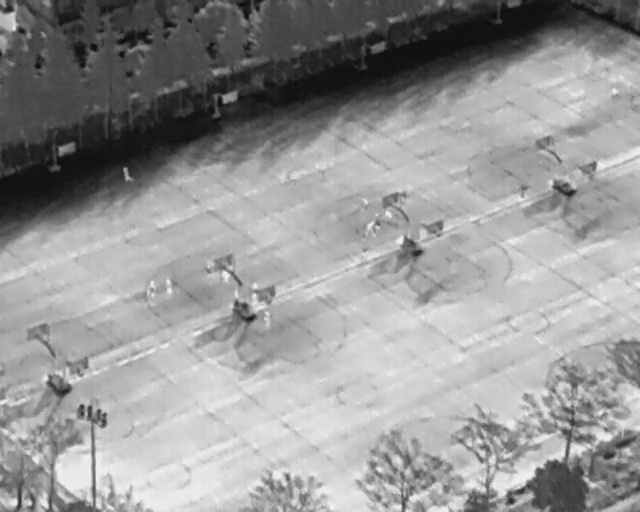Person: (218, 262, 236, 285), (119, 165, 135, 185), (249, 282, 261, 307), (372, 210, 384, 231), (145, 280, 158, 299), (364, 220, 377, 239), (163, 277, 175, 296), (202, 260, 214, 278), (262, 310, 273, 328), (395, 233, 406, 248), (232, 286, 241, 301), (611, 88, 621, 101), (360, 197, 370, 210), (384, 208, 392, 219)
